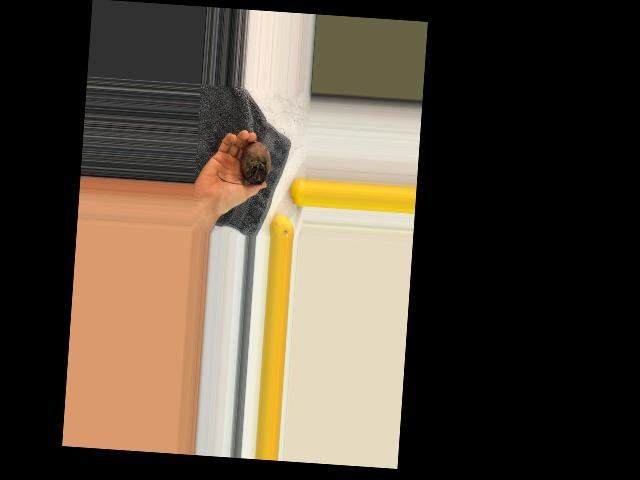beet: (216, 138, 272, 185)
